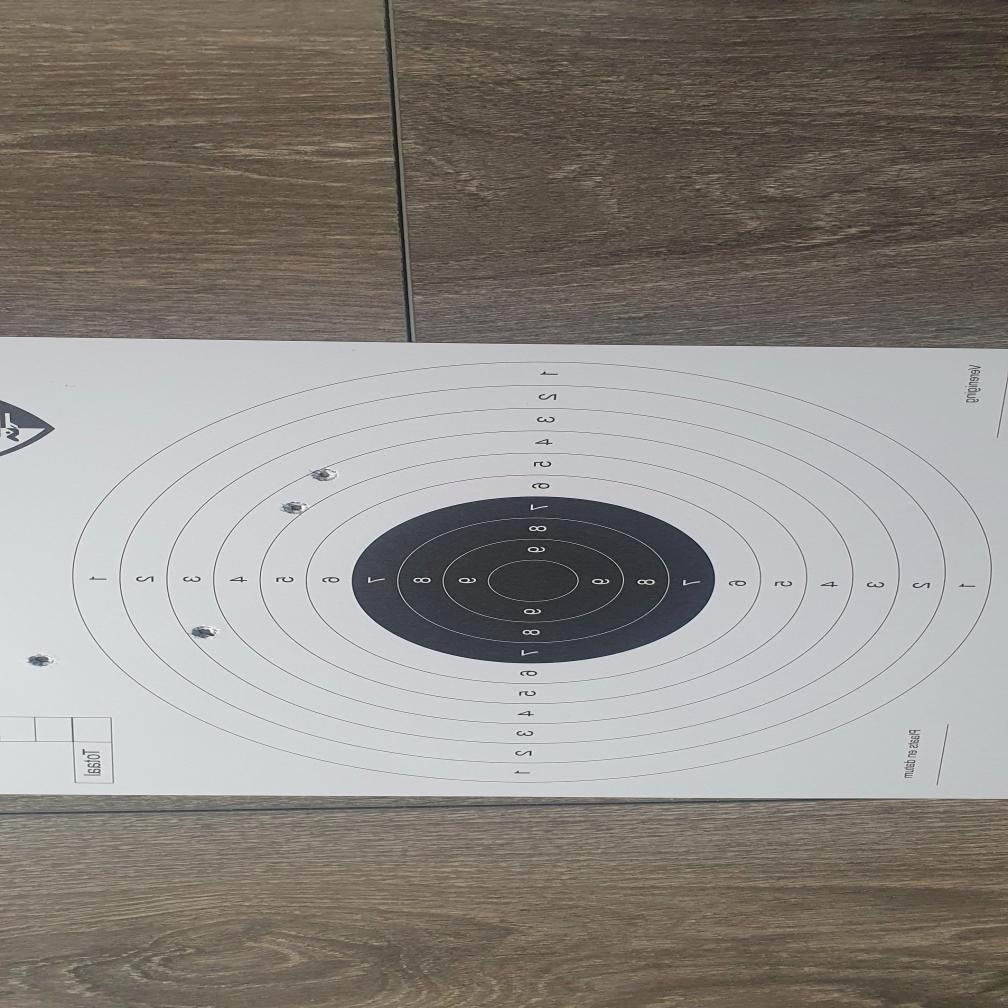0: (22, 652, 59, 668)
3: (187, 625, 221, 639)
4: (305, 465, 343, 482)
5: (276, 500, 314, 516)
Target: (71, 360, 994, 784)
black_contour: (348, 496, 716, 664)
